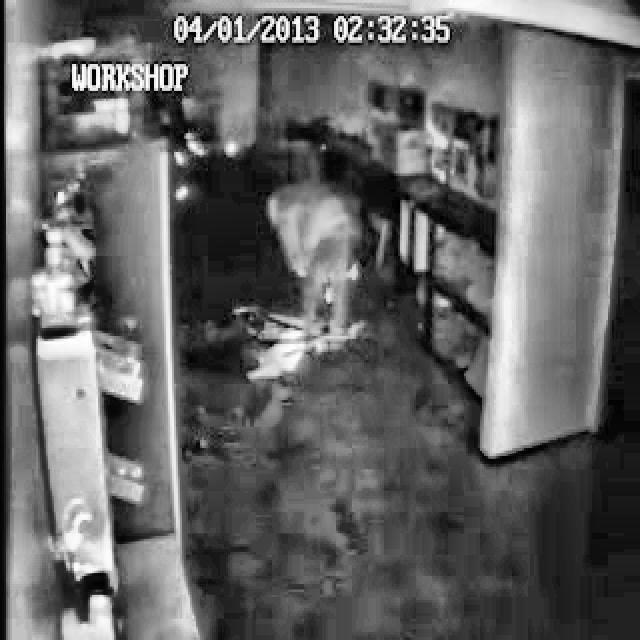burglary: (227, 174, 378, 386)
